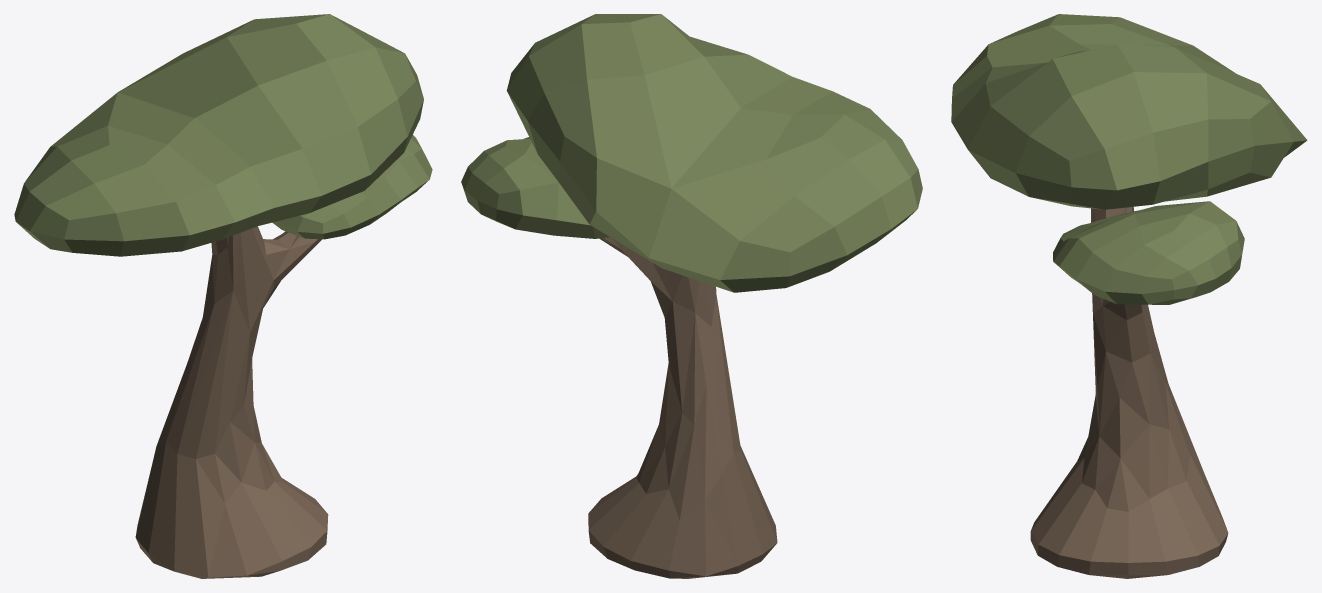
Rendered from tree-4.fbx.
The picture shows the model from 3 angles, left to right: view 1: azimuth 30°, elevation 25°; view 2: azimuth 150°, elevation 25°; view 3: azimuth 270°, elevation 25°; orthographic projection. The views are drawn at different scales.
Visible parts, largest first — view 1: Cube.006, Cube.004, Cube.007; view 2: Cube.006, Cube.004, Cube.007; view 3: Cube.006, Cube.004, Cube.007.
Part boxes in pixels (<box>): Cube.006: <box>14,14,423,256</box>; Cube.004: <box>135,226,328,578</box>; Cube.007: <box>272,135,432,239</box>; Cube.006: <box>506,14,922,292</box>; Cube.004: <box>588,237,777,578</box>; Cube.007: <box>461,137,609,238</box>; Cube.006: <box>951,14,1307,209</box>; Cube.004: <box>1030,207,1228,578</box>; Cube.007: <box>1053,201,1244,304</box>.
Size of the model in its own units: 1392 by 1638 by 986.
